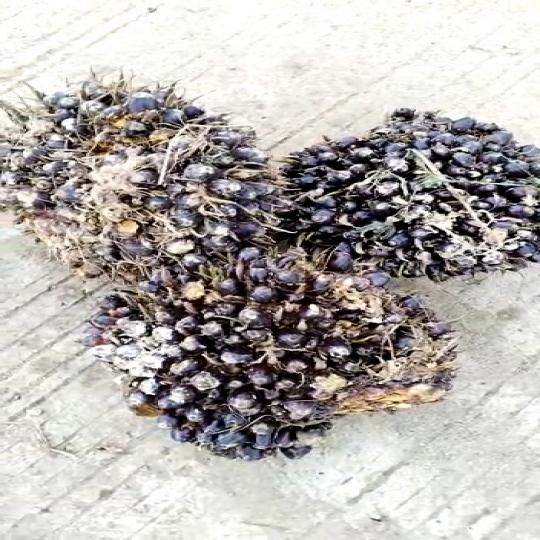mentah: (84, 244, 450, 458), (265, 91, 540, 272), (0, 87, 265, 268)
